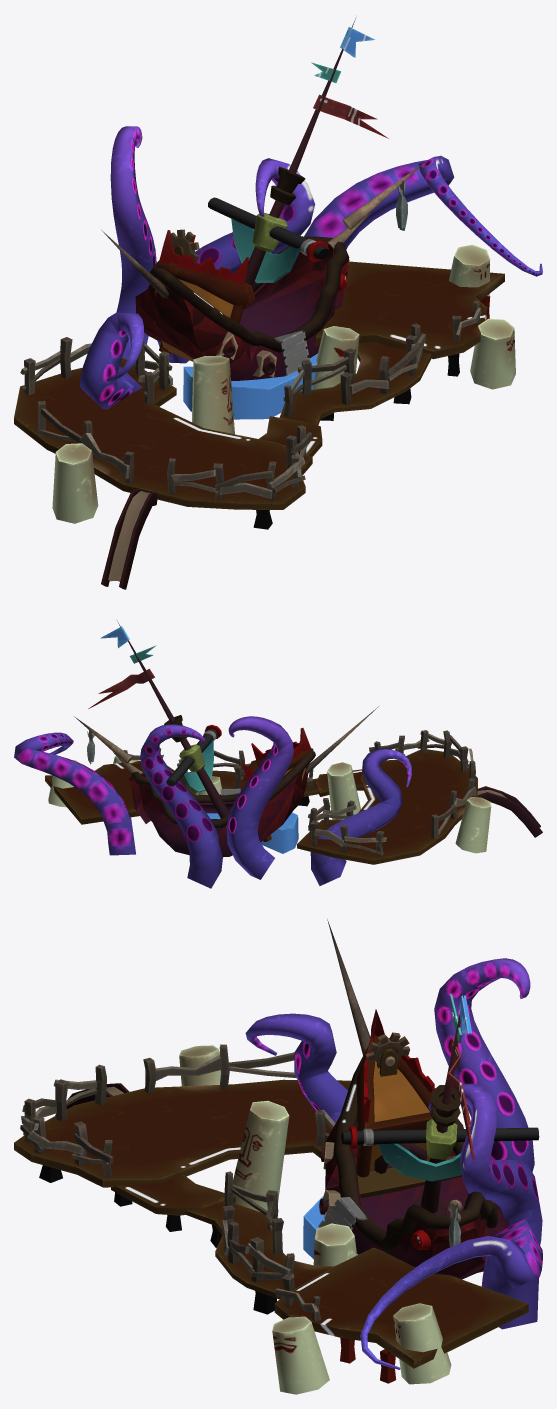
The model's file is base_lagoon.fbx.
3 views of the same model, one above another, from view 1: azimuth 30°, elevation 25°; view 2: azimuth 150°, elevation 25°; view 3: azimuth 270°, elevation 25° (orthographic). The views are drawn at different scales.
Parts seen in each view (by area): view 1: base_lagoon; view 2: base_lagoon; view 3: base_lagoon.
Boxes of the visible parts, bbox=[...] form: base_lagoon: bbox=[14, 18, 542, 589]; base_lagoon: bbox=[14, 621, 542, 888]; base_lagoon: bbox=[14, 919, 542, 1394].
Bounding box in the file's own units: 4951 × 2727 × 3450.
2 materials, 2 textured.
